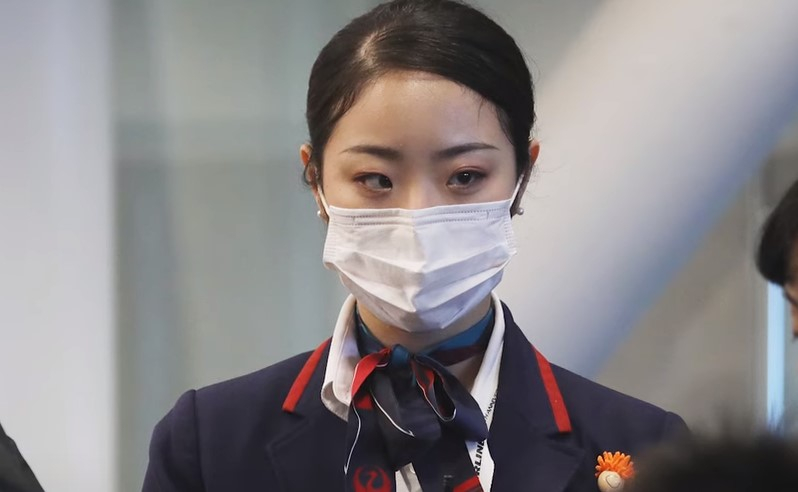face_with_mask: (304, 7, 541, 338)
